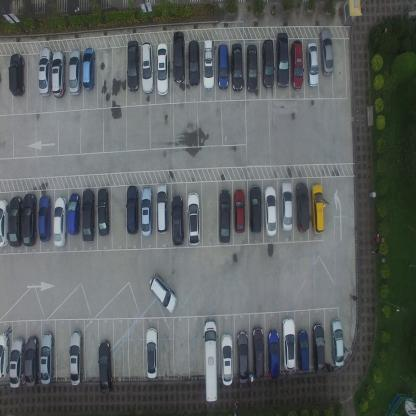car: (201, 319, 218, 404), (148, 273, 177, 314), (275, 32, 290, 89), (9, 336, 25, 389), (69, 327, 83, 386), (186, 191, 201, 246), (98, 339, 113, 394), (21, 192, 36, 247), (37, 46, 53, 97), (294, 182, 310, 232), (281, 318, 296, 371), (310, 182, 325, 235), (52, 195, 67, 248), (8, 194, 23, 247), (8, 53, 26, 97), (218, 189, 232, 245), (235, 330, 249, 386), (24, 335, 39, 387), (40, 329, 54, 384), (126, 39, 140, 93), (172, 31, 186, 85), (266, 329, 281, 379), (319, 27, 334, 77), (311, 322, 325, 374), (263, 186, 277, 238), (82, 186, 95, 242), (156, 42, 169, 98), (290, 40, 304, 92), (220, 332, 233, 387), (251, 326, 264, 381), (248, 183, 262, 234), (261, 38, 275, 89), (171, 193, 184, 247), (141, 41, 154, 95), (280, 180, 293, 233), (330, 318, 344, 367), (140, 184, 153, 236), (126, 183, 139, 235), (145, 327, 158, 379), (52, 50, 66, 98), (68, 48, 82, 96), (82, 45, 96, 91), (97, 187, 110, 236), (38, 194, 51, 243), (203, 39, 215, 92), (296, 328, 310, 373), (156, 183, 168, 235), (246, 43, 258, 95), (231, 42, 243, 93), (306, 41, 319, 88), (188, 39, 200, 88), (233, 188, 246, 233), (67, 191, 80, 235), (217, 42, 228, 91), (0, 332, 9, 380), (0, 197, 8, 249)
